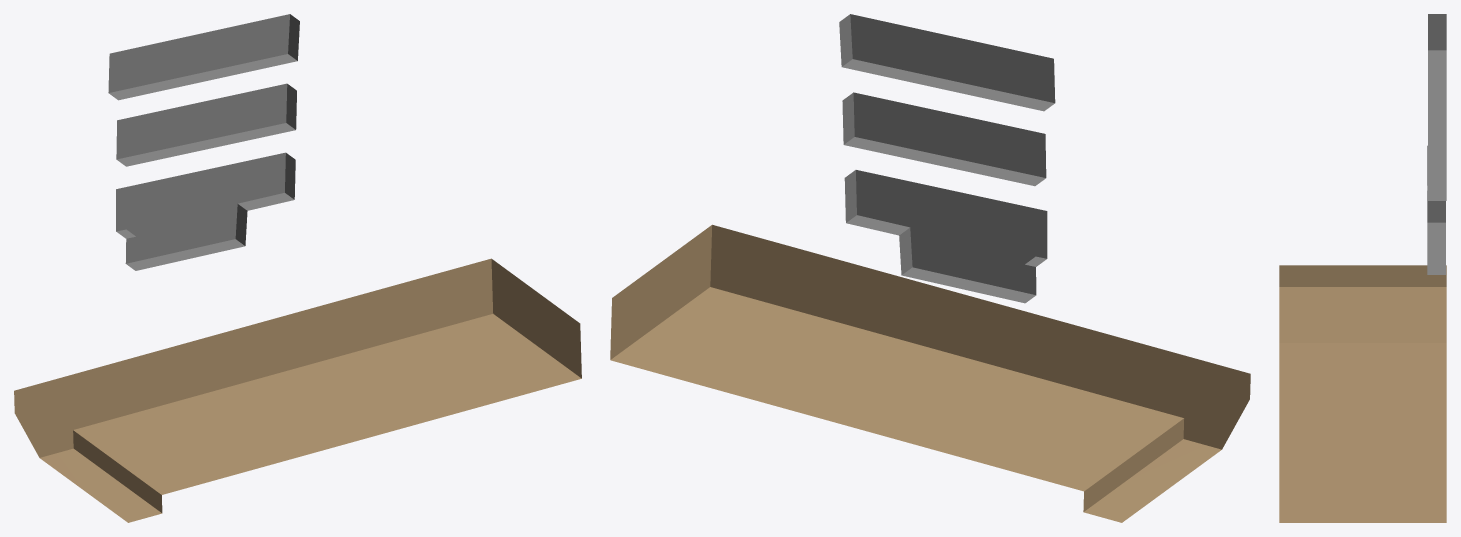
The picture shows the model from 3 angles, left to right: view 1: azimuth 30°, elevation 25°; view 2: azimuth 150°, elevation 25°; view 3: azimuth 270°, elevation 25°; orthographic projection. The views are drawn at different scales.
Parts seen in each view (by area): view 1: 0_3_2_0_1_3_2; view 2: 0_3_2_0_1_3_2; view 3: 0_3_2_0_1_3_2.
Boxes of the visible parts, x1=… form: 0_3_2_0_1_3_2: x1=14, y1=14, x2=581, y2=522; 0_3_2_0_1_3_2: x1=610, y1=14, x2=1250, y2=522; 0_3_2_0_1_3_2: x1=1279, y1=14, x2=1446, y2=522.
Bounding box in the file's own units: 84.14 × 64.99 × 27.
